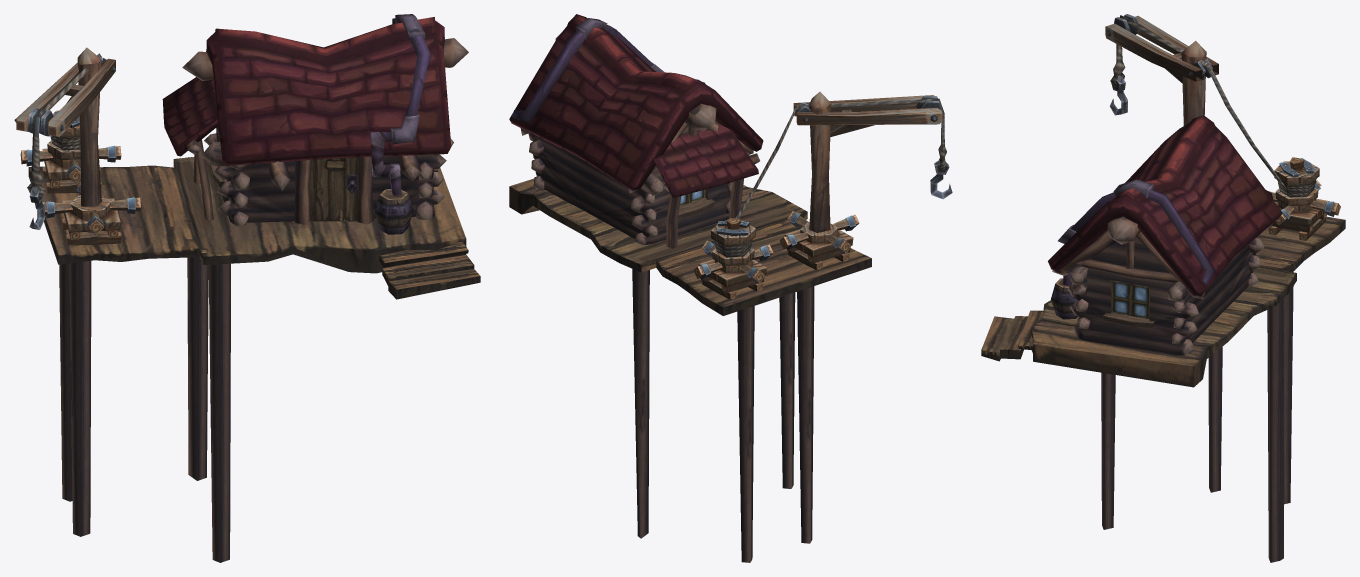
The model's file is building_mineoffice.fbx.
The picture shows the model from 3 angles, left to right: view 1: azimuth 30°, elevation 25°; view 2: azimuth 150°, elevation 25°; view 3: azimuth 270°, elevation 25°; orthographic projection. The views are drawn at different scales.
Parts seen in each view (by area): view 1: building_mineoffice-0; view 2: building_mineoffice-0; view 3: building_mineoffice-0.
Part boxes in pixels (box(x1,y1,x2,y2)): building_mineoffice-0: box(14, 14, 480, 562); building_mineoffice-0: box(509, 14, 952, 562); building_mineoffice-0: box(981, 14, 1345, 562).
Bounding box in the file's own units: 15.58 × 16.51 × 12.09.
